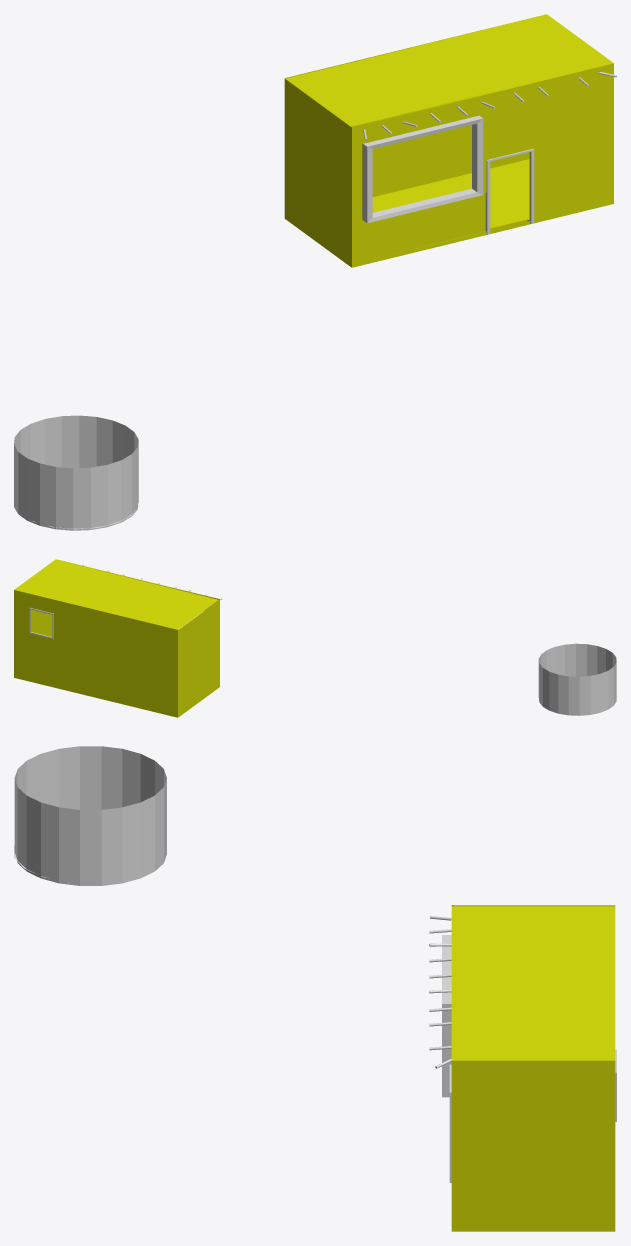
Rendered from Arabia_level.fbx.
3 views of the same model, one above another, from view 1: azimuth 30°, elevation 25°; view 2: azimuth 150°, elevation 25°; view 3: azimuth 270°, elevation 25° (orthographic). The views are drawn at different scales.
Parts seen in each view (by area): view 1: Cube, Cylinder.005, Cube.001, Cube.002; view 2: Cube, Cylinder.005; view 3: Cube, Cylinder.005, Cube.001.
Part boxes in pixels (bbox=[...]): Cube: bbox=[284, 14, 613, 267]; Cylinder.005: bbox=[14, 415, 138, 530]; Cube.001: bbox=[362, 115, 483, 223]; Cube.002: bbox=[485, 148, 534, 234]; Cube: bbox=[14, 559, 219, 717]; Cylinder.005: bbox=[538, 643, 616, 715]; Cube: bbox=[451, 905, 615, 1231]; Cylinder.005: bbox=[14, 746, 166, 885]; Cube.001: bbox=[442, 935, 451, 1097].
Bounding box in the file's own units: 27185 × 5801 × 15760.
